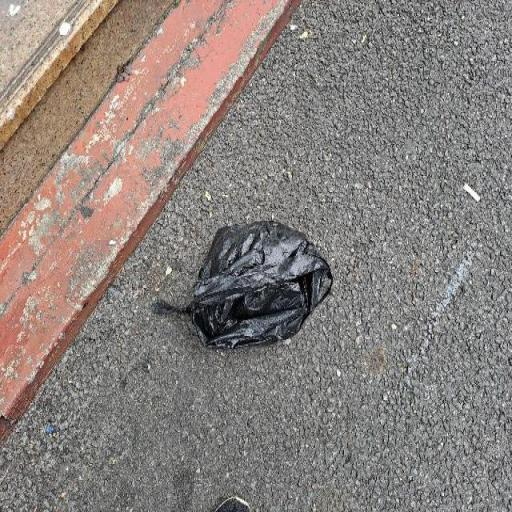plastic-bag: (150, 220, 336, 353)
